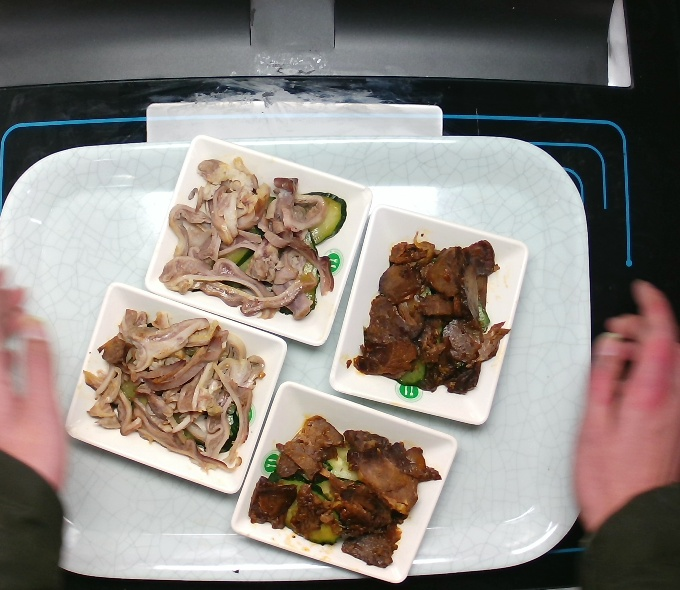wcq-JiangNiuRou: (241, 409, 446, 573), (343, 224, 513, 402)
wcq-ZhuDu: (156, 153, 350, 325), (77, 305, 269, 476)
